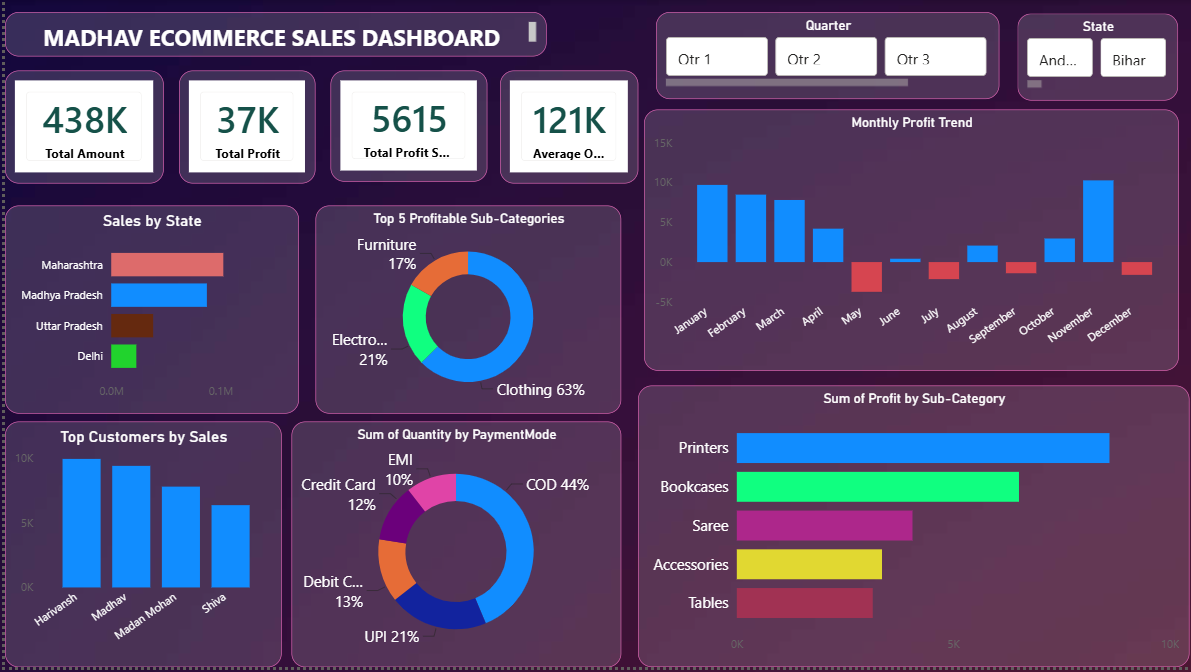

The page's visual inventory and layout, read from the dashboard file:
{"tool":"powerbi","page":{"name":"Page 1","canvas":[1280,720],"ordinal":0},"visuals":[{"type":"textbox","box":[0,12.9,584.4,47.9],"z":0},{"type":"columnChart","title":"Monthly Profit Trend","fields":{"Category":["Orders.Order Date.Variation.Date Hierarchy.Month"],"Y":["Sum(Details.Profit)"]},"box":[689.5,118,577,282.1],"z":1000},{"type":"barChart","fields":{"Category":["Details.Sub-Category"],"Y":["Sum(Details.Profit)"]},"box":[683.9,416.6,595.5,304.2],"z":2000},{"type":"donutChart","title":"Top 5 Profitable Sub-Categories","fields":{"Category":["Details.Category"],"Y":["Sum(Details.Quantity)"]},"box":[335.5,221.2,330,224.9],"z":3000},{"type":"donutChart","fields":{"Y":["Sum(Details.Quantity)"],"Category":["Details.PaymentMode"]},"box":[309.7,455.3,355.8,265.5],"z":4000},{"type":"cardVisual","fields":{"Data":["Sum(Details.Amount)"]},"box":[0,75.6,171.4,121.7],"z":5000},{"type":"cardVisual","fields":{"Data":["Sum(Details.Profit)"]},"box":[188,75.6,147.5,121.7],"z":6000},{"type":"cardVisual","fields":{"Data":["Sum(Details.Quantity)"]},"box":[352.1,75.6,169.6,119.8],"z":7000},{"type":"cardVisual","fields":{"Data":["Sum(Details.AOV)"]},"box":[534.6,75.6,149.3,121.7],"z":8000},{"type":"barChart","title":"Sales by State","fields":{"Category":["Orders.State"],"Y":["Sum(Details.Amount)"]},"box":[0,221.2,317.1,224.9],"z":9000},{"type":"columnChart","title":"Top Customers by Sales","fields":{"Category":["Orders.CustomerName"],"Y":["Sum(Details.Amount)"]},"box":[0,455.3,298.6,265.5],"z":10000},{"type":"advancedSlicerVisual","fields":{"Values":["Orders.Order Date.Variation.Date Hierarchy.Quarter"]},"box":[702.4,0,370.5,94],"z":11000},{"type":"advancedSlicerVisual","fields":{"Values":["Orders.State"]},"box":[1093.2,0,173.3,94],"z":12000}]}

Visuals, with their boxes in screenshot pixels (x1, y1, x2, y2), scaled from the page's 1280x720 canvas onto the 1191x672 screenshot:
textbox: (left=0, top=12, right=544, bottom=57)
"Monthly Profit Trend" columnChart: (left=642, top=110, right=1178, bottom=373)
barChart - Details.Sub-Category x Sum(Details.Profit): (left=636, top=389, right=1190, bottom=671)
"Top 5 Profitable Sub-Categories" donutChart: (left=312, top=206, right=619, bottom=416)
donutChart - Sum(Details.Quantity) x Details.PaymentMode: (left=288, top=425, right=619, bottom=671)
cardVisual - Sum(Details.Amount): (left=0, top=71, right=159, bottom=184)
cardVisual - Sum(Details.Profit): (left=175, top=71, right=312, bottom=184)
cardVisual - Sum(Details.Quantity): (left=328, top=71, right=485, bottom=182)
cardVisual - Sum(Details.AOV): (left=497, top=71, right=636, bottom=184)
"Sales by State" barChart: (left=0, top=206, right=295, bottom=416)
"Top Customers by Sales" columnChart: (left=0, top=425, right=278, bottom=671)
advancedSlicerVisual - Orders.Order Date.Variation.Date Hierarchy.Quarter: (left=654, top=0, right=998, bottom=88)
advancedSlicerVisual - Orders.State: (left=1017, top=0, right=1178, bottom=88)
